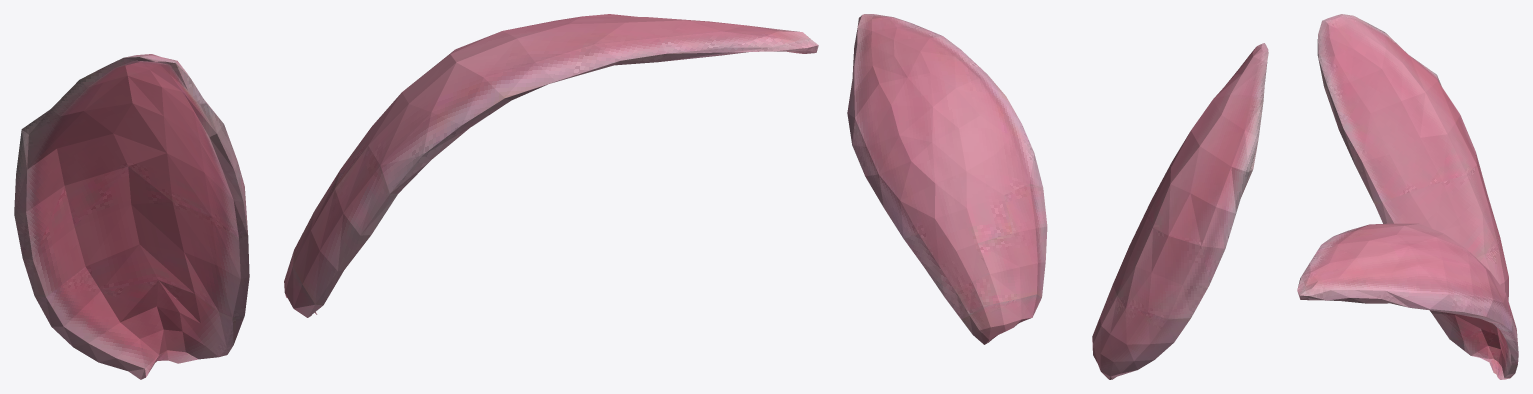
The model's file is ewm_t2bunnygirl_hat.glb.
3 views of the same model, side by side, from view 1: azimuth 30°, elevation 25°; view 2: azimuth 150°, elevation 25°; view 3: azimuth 270°, elevation 25° (orthographic). The views are drawn at different scales.
Parts seen in each view (by area): view 1: ewm_t2bunnygirl_hat; view 2: ewm_t2bunnygirl_hat; view 3: ewm_t2bunnygirl_hat.
Boxes of the visible parts, box(x1,y1,x2,y2) form: ewm_t2bunnygirl_hat: box(14, 14, 818, 379); ewm_t2bunnygirl_hat: box(847, 14, 1268, 379); ewm_t2bunnygirl_hat: box(1297, 14, 1518, 379).
Bounding box in the file's own units: 0.5162 × 0.3127 × 0.2227.
1 material, 1 textured.
